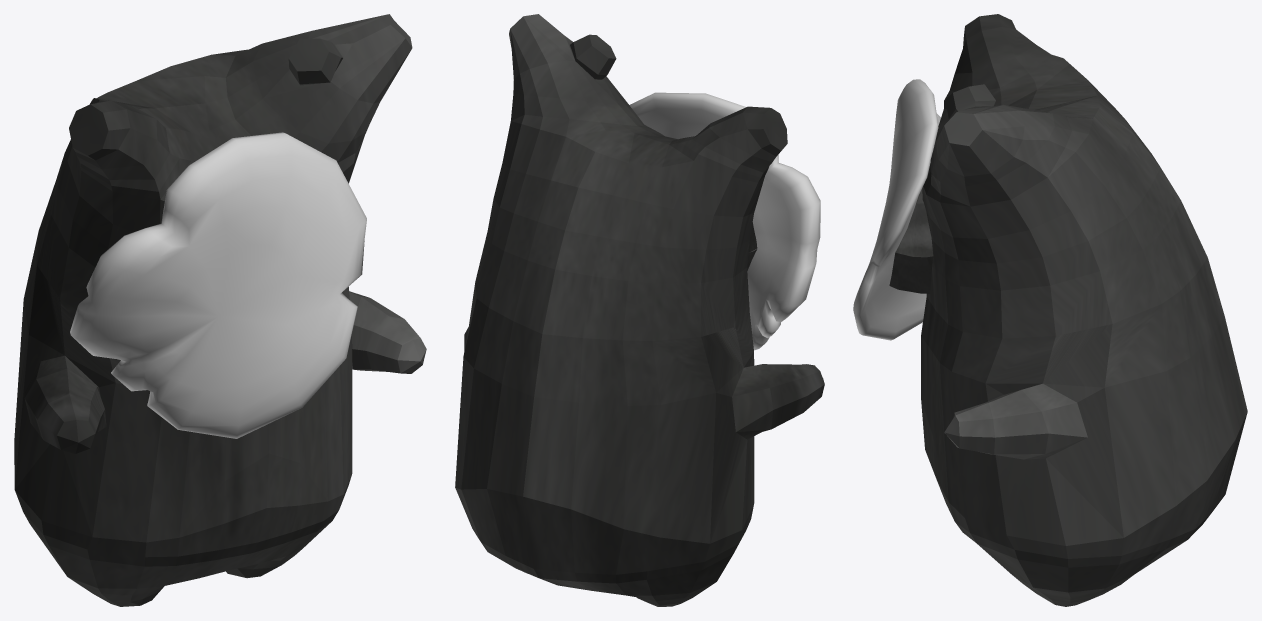
Rendered from frame_0011.obj.
The picture shows the model from 3 angles, left to right: view 1: azimuth 30°, elevation 25°; view 2: azimuth 150°, elevation 25°; view 3: azimuth 270°, elevation 25°; orthographic projection. The views are drawn at different scales.
Visible parts, largest first — view 1: korok, leaf; view 2: korok, leaf; view 3: korok, leaf, nose.
Part boxes in pixels (<box>): korok: <box>14,14,426,606</box>; leaf: <box>70,132,366,438</box>; korok: <box>455,14,824,606</box>; leaf: <box>629,92,820,350</box>; korok: <box>921,14,1247,606</box>; leaf: <box>853,79,940,340</box>; nose: <box>889,188,933,293</box>.
Size of the model in its own units: 1.43 by 2.12 by 1.43.
